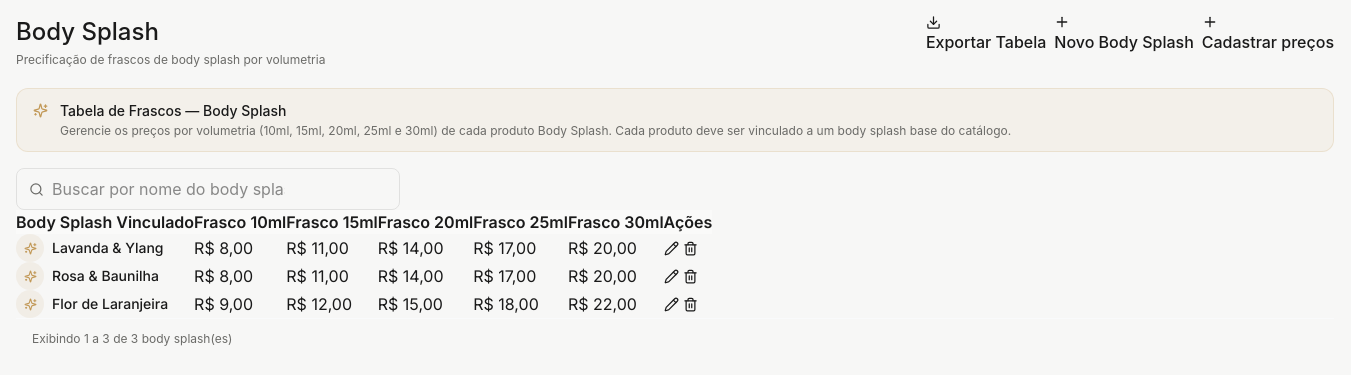
Test: BodySplash: caracterizacao do catalogo › busca sem diferenciar maiusculas e recupera os produtos apos resultado vazio
Expected: the cell "Lavanda & Ylang" is shown, top-left (16, 234), bottom-right (194, 262)
Type "LAVANDA" into the search field with placeholder "Buscar por nome do body splash..." at (176, 189), box top-left (52, 177), bottom-right (300, 201)
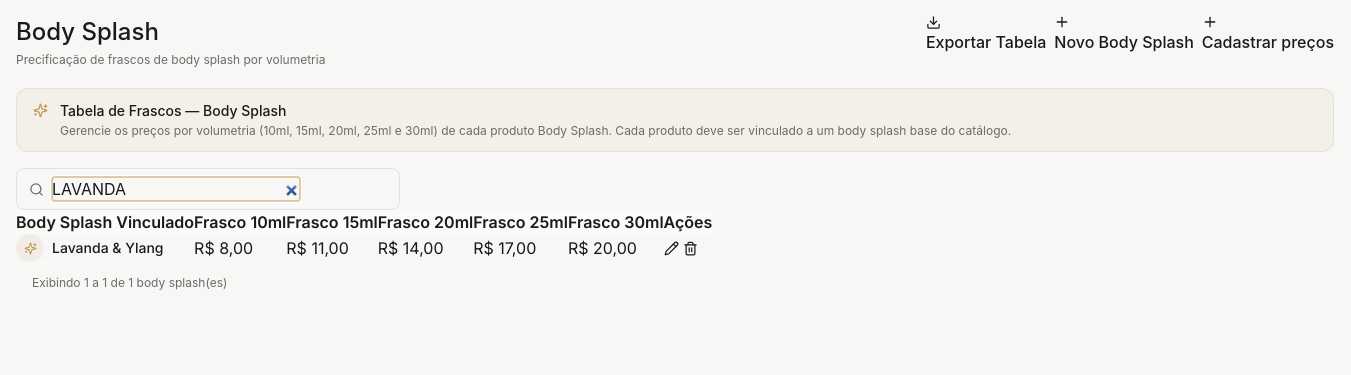
Expected: the row "Lavanda & Ylang R$ 8,00 R$ 11,00 R$ 14,00 R$ 17,00 R$ 20,00" is shown, top-left (16, 234), bottom-right (712, 262)
Expected: the text "Rosa & Baunilha" is gone
Replace the text in the search field with placeholder "Buscar por nome do body splash..." with "inexistente" at (176, 189), box top-left (52, 177), bottom-right (300, 201)
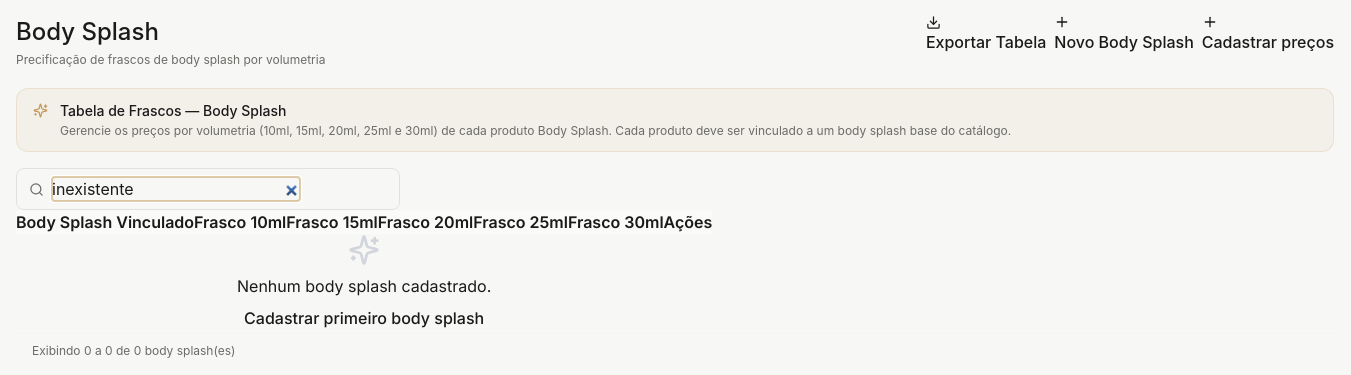
Expected: the text "Nenhum body splash cadastrado." is shown, top-left (237, 274), bottom-right (491, 298)
Clear the search field with placeholder "Buscar por nome do body splash..." at (176, 189), box top-left (52, 177), bottom-right (300, 201)
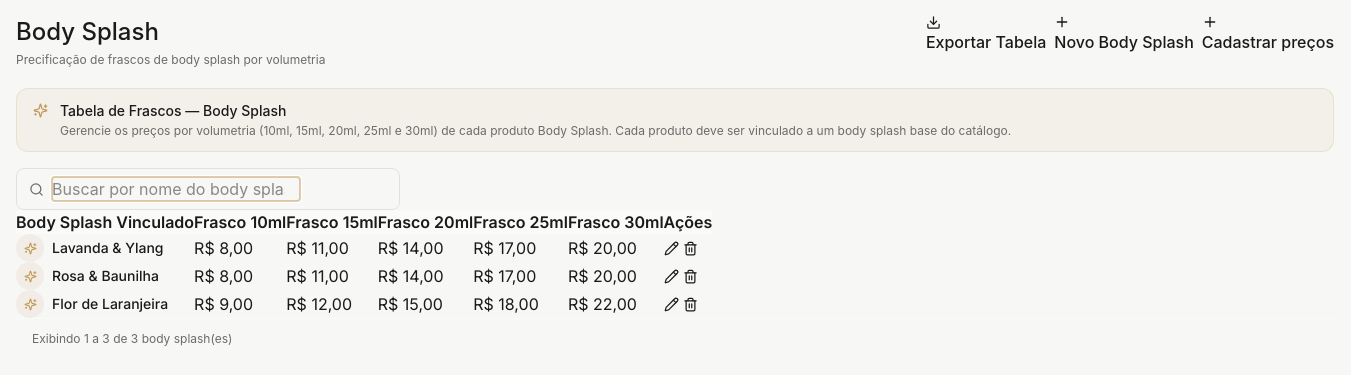
Expected: the row "Flor de Laranjeira" is shown, top-left (16, 290), bottom-right (712, 318)
Expected: the row "Lavanda & Ylang R$ 8,00 R$ 11,00 R$ 14,00 R$ 17,00 R$ 20,00" is shown, top-left (16, 234), bottom-right (712, 262)
Expected: the row "Rosa & Baunilha R$ 8,00 R$ 11,00 R$ 14,00 R$ 17,00 R$ 20,00" is shown, top-left (16, 262), bottom-right (712, 290)
